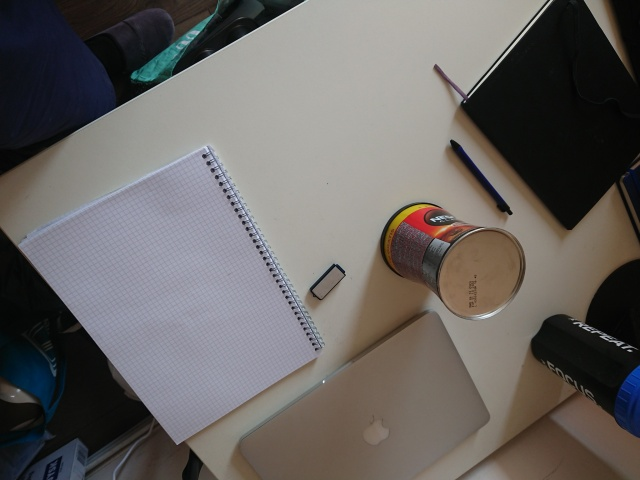Nescafe Classic 225g: (374, 194, 533, 328)
